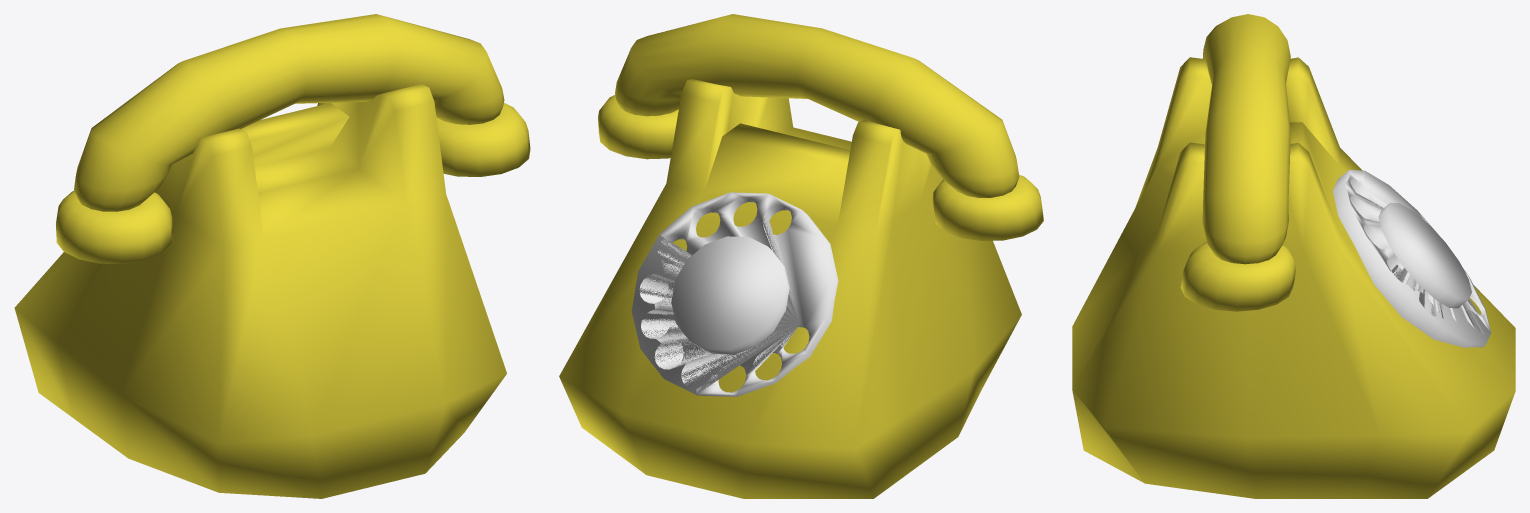
Rendered from Phone.fbx.
The picture shows the model from 3 angles, left to right: view 1: azimuth 30°, elevation 25°; view 2: azimuth 150°, elevation 25°; view 3: azimuth 270°, elevation 25°; orthographic projection. The views are drawn at different scales.
Parts seen in each view (by area): view 1: Body, Cylinder; view 2: Body, Cylinder; view 3: Body, Cylinder.
Boxes of the visible parts, bbox=[...] form: Body: bbox=[14, 84, 506, 498]; Cylinder: bbox=[56, 14, 530, 264]; Body: bbox=[559, 78, 1021, 498]; Cylinder: bbox=[598, 14, 1043, 240]; Body: bbox=[1072, 57, 1515, 498]; Cylinder: bbox=[1180, 14, 1295, 311].
Size of the model in its own units: 332 by 270 by 290.
